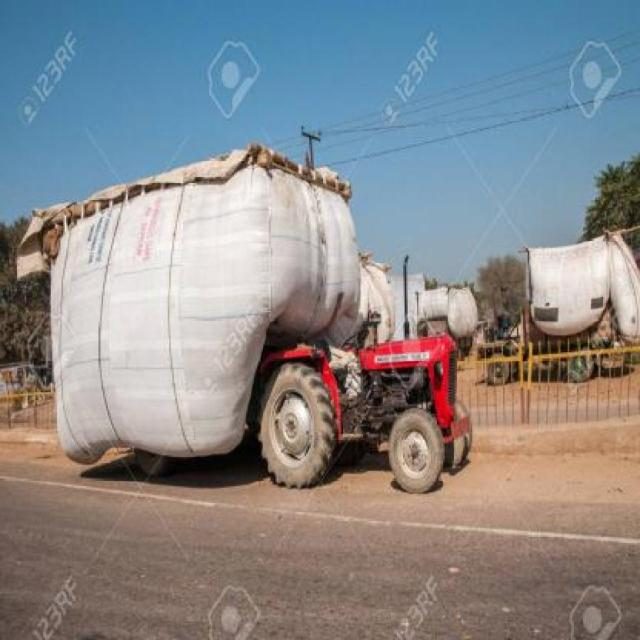goods: (40, 145, 388, 479)
truck: (244, 261, 472, 493)
